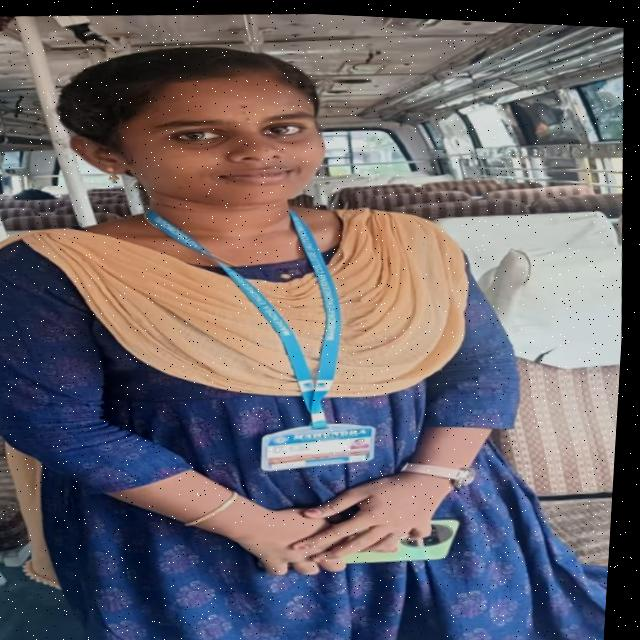id_card: (126, 187, 413, 482)
